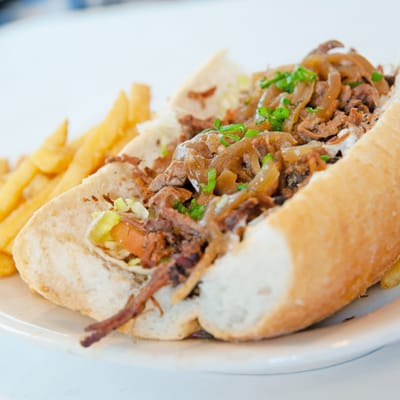curry: (255, 65, 318, 132)
